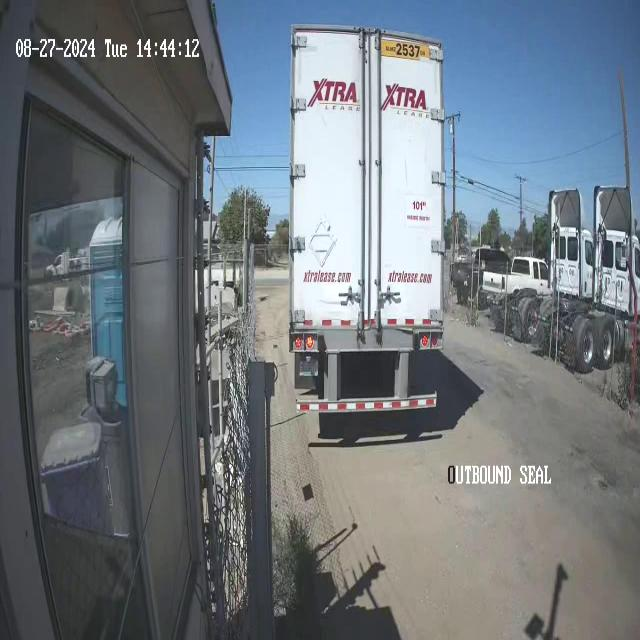CONTAINER: (288, 22, 446, 358)
